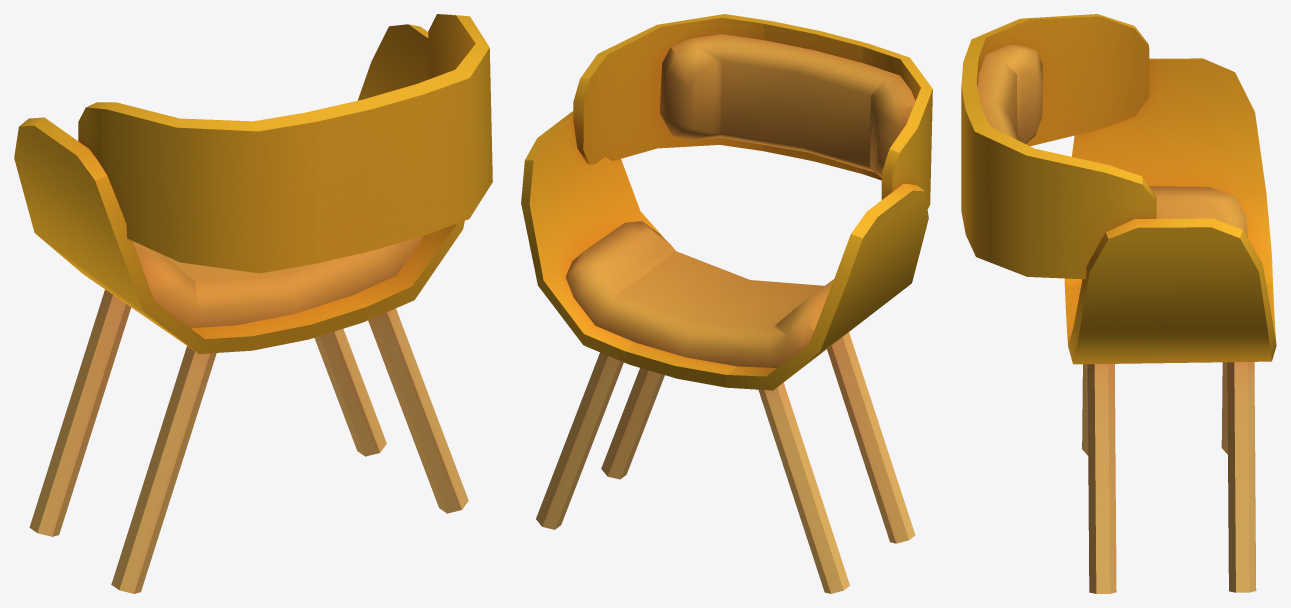
The model's file is chair02 02.fbx.
3 views of the same model, side by side, from view 1: azimuth 30°, elevation 25°; view 2: azimuth 150°, elevation 25°; view 3: azimuth 270°, elevation 25° (orthographic). The views are drawn at different scales.
Parts seen in each view (by area): view 1: polySurface171; view 2: polySurface171; view 3: polySurface171.
Part boxes in pixels (box(x1,y1,x2,y2)): polySurface171: box(14, 14, 492, 593); polySurface171: box(521, 14, 932, 593); polySurface171: box(961, 14, 1276, 593).
Size of the model in its own units: 12.07 by 14.71 by 9.49.
Materials: 1 (1 with a texture image).
